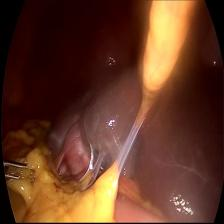Grasper: (3, 159, 32, 194)
